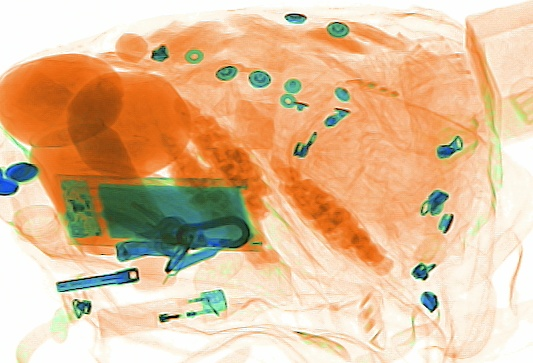lighter: (95, 286, 229, 336)
